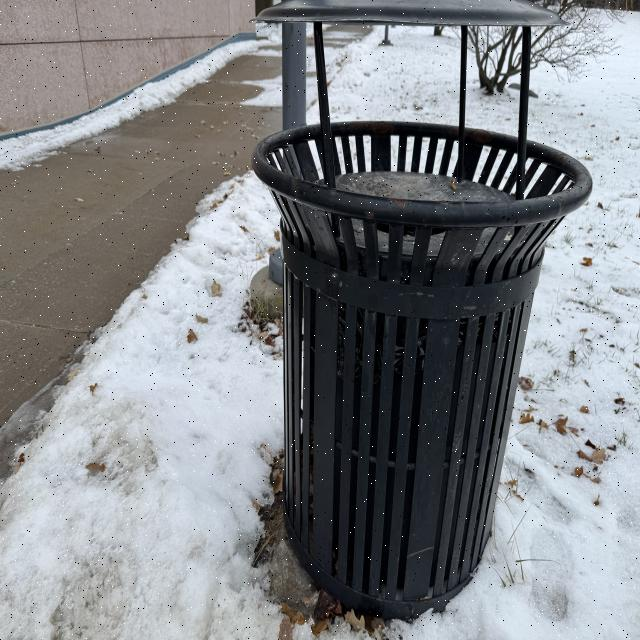Dustbin: (252, 0, 595, 617)
